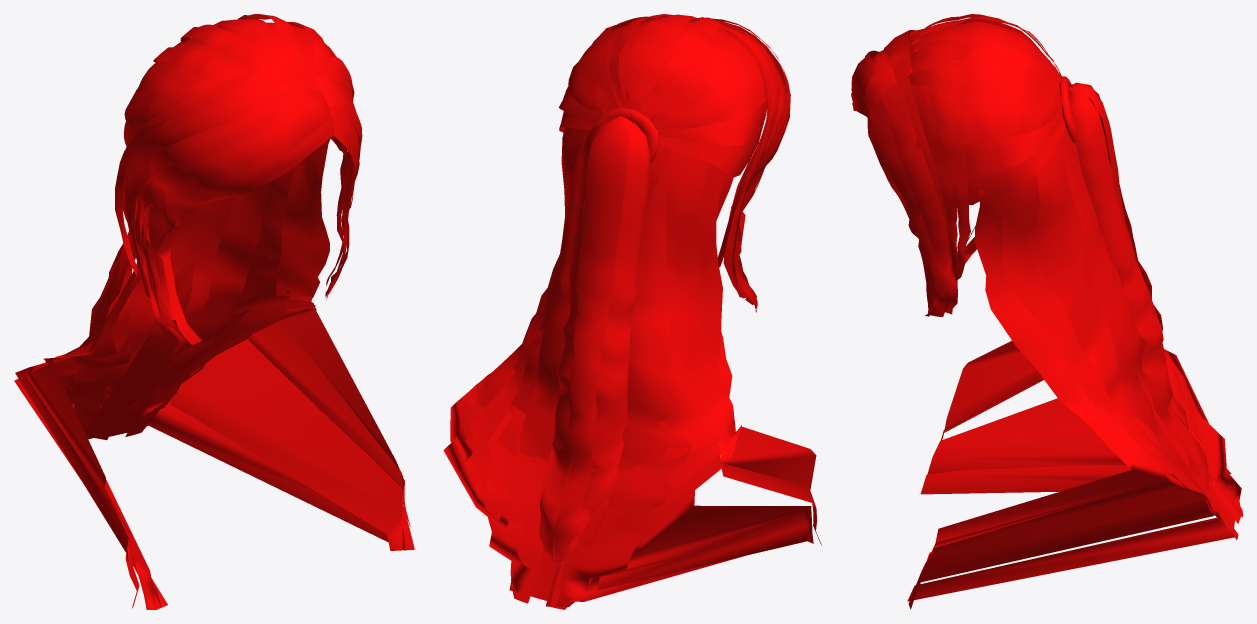
The model's file is elvs_keylth_hair_M.glb.
The picture shows the model from 3 angles, left to right: view 1: azimuth 30°, elevation 25°; view 2: azimuth 150°, elevation 25°; view 3: azimuth 270°, elevation 25°; orthographic projection. The views are drawn at different scales.
Bounding box in the file's own units: 0.3003 × 0.5164 × 0.3519.
1 material, 1 textured.
